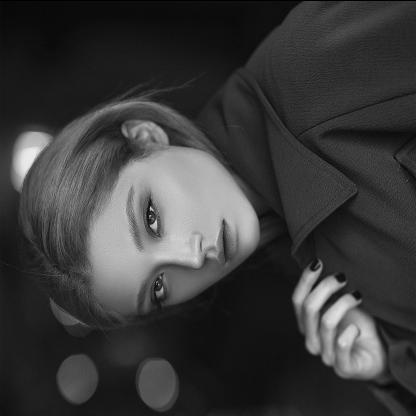Eye: (140, 196, 166, 236), (144, 268, 168, 310)
Mouth: (214, 214, 238, 268)
Nose: (152, 233, 206, 268)
